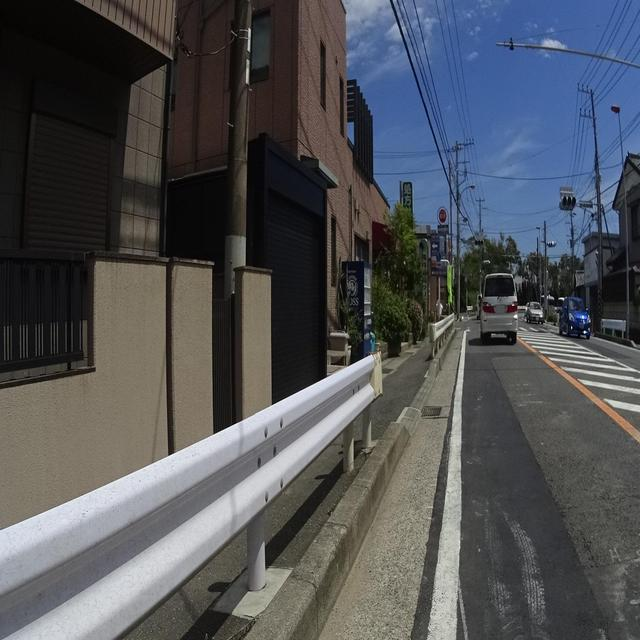Billboard: (402, 181, 447, 328)
Car: (476, 273, 543, 344), (559, 296, 590, 339)
Trash Can: (372, 332, 374, 352)
Vegetation: (460, 229, 571, 322), (574, 255, 583, 276)
